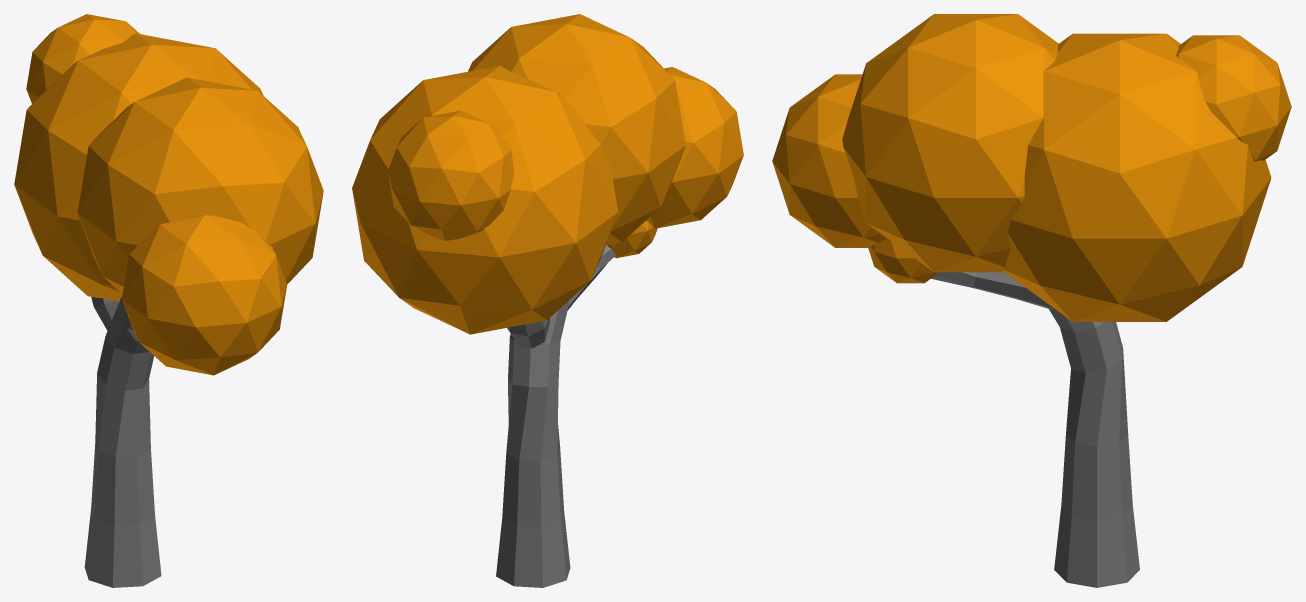
File: Tree1.fbx
The picture shows the model from 3 angles, left to right: view 1: azimuth 30°, elevation 25°; view 2: azimuth 150°, elevation 25°; view 3: azimuth 270°, elevation 25°; orthographic projection. The views are drawn at different scales.
Visible parts, largest first — view 1: Icosphere.004; view 2: Icosphere.004; view 3: Icosphere.004.
Boxes of the visible parts, box(x1,y1,x2,y2) form: Icosphere.004: box(14, 14, 323, 587); Icosphere.004: box(352, 14, 743, 587); Icosphere.004: box(772, 14, 1291, 587).
Size of the model in its own units: 218 by 431 by 361.
